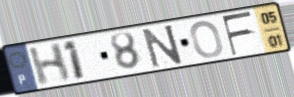1: (62, 38, 89, 82)
8: (109, 31, 141, 74)
F: (220, 10, 255, 58)
H: (26, 41, 73, 88)
N: (140, 22, 185, 70)
O: (189, 19, 225, 59)
